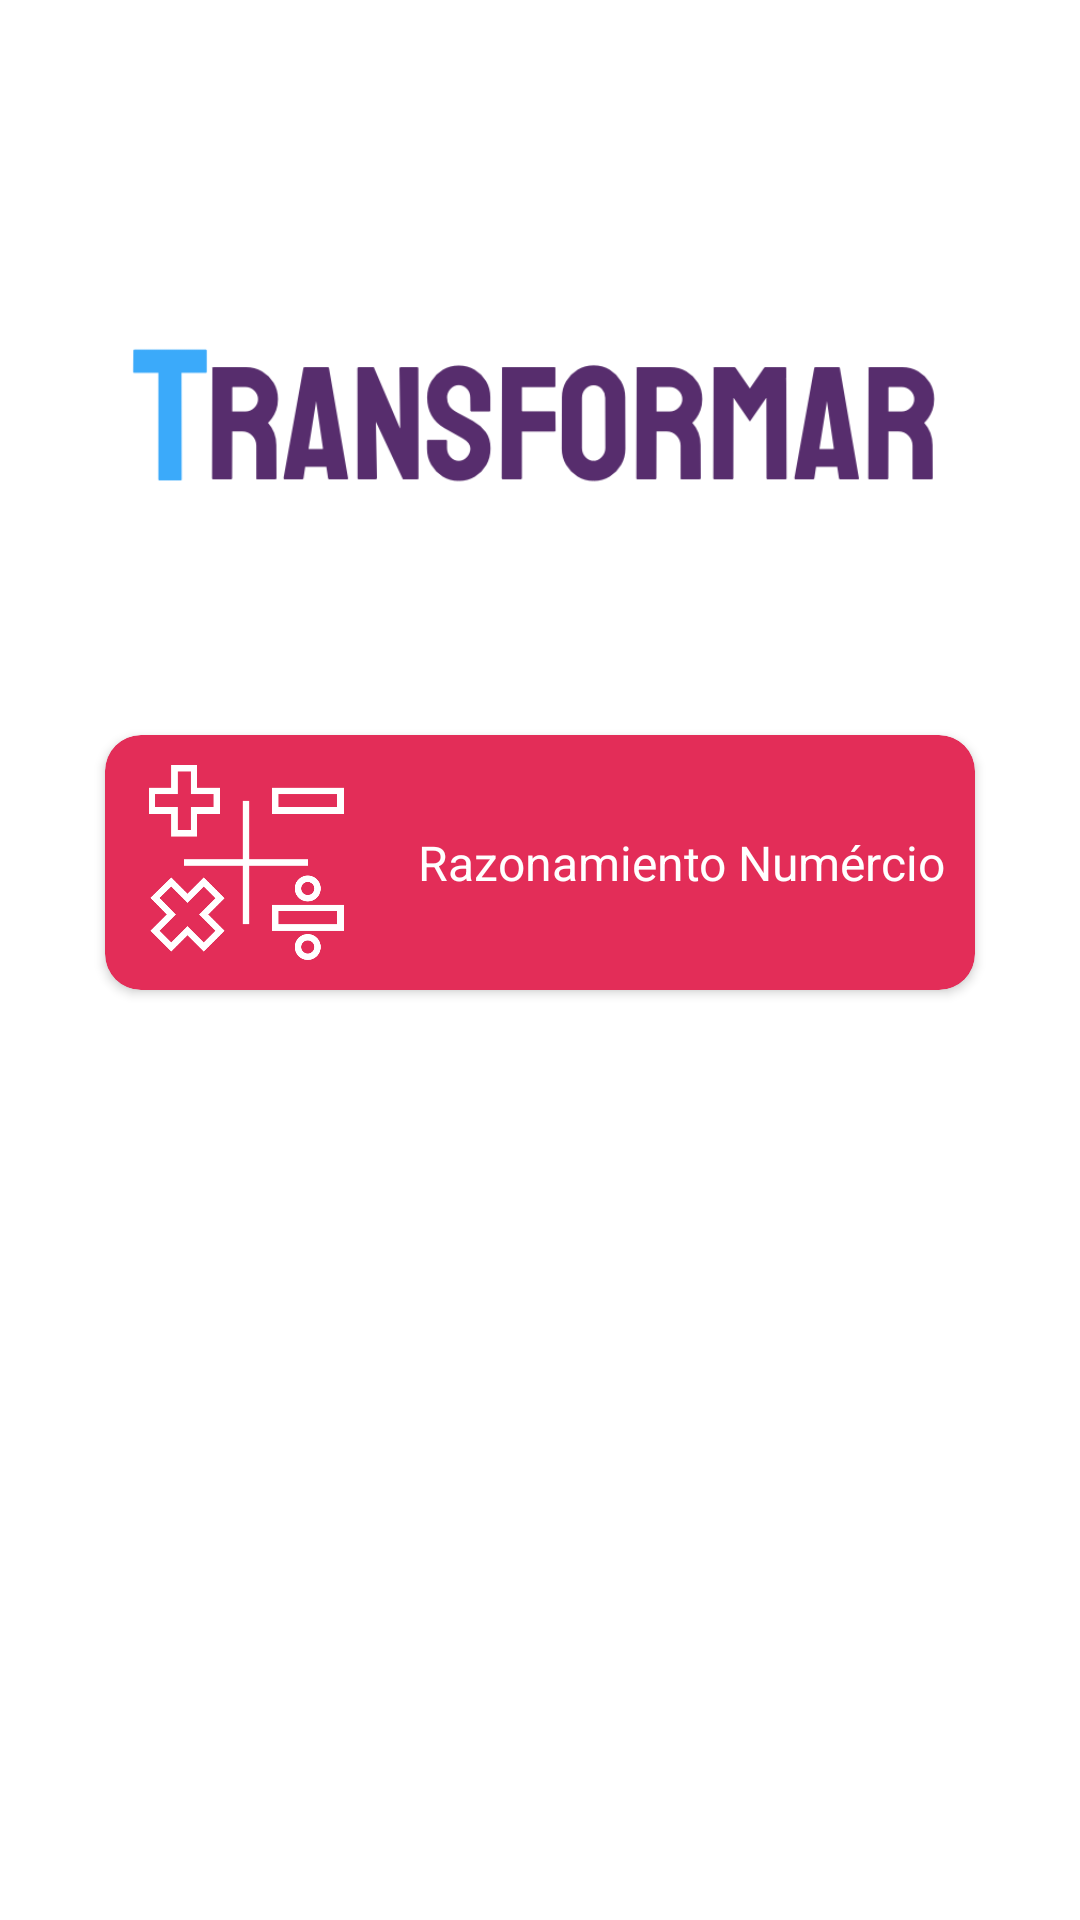

Where icons sit on this 1080×1920 app screen, as (x1=x1, y1=y1, x2=x2, y2=y2):
numerico: (x1=149, y1=765, x2=344, y2=960)
